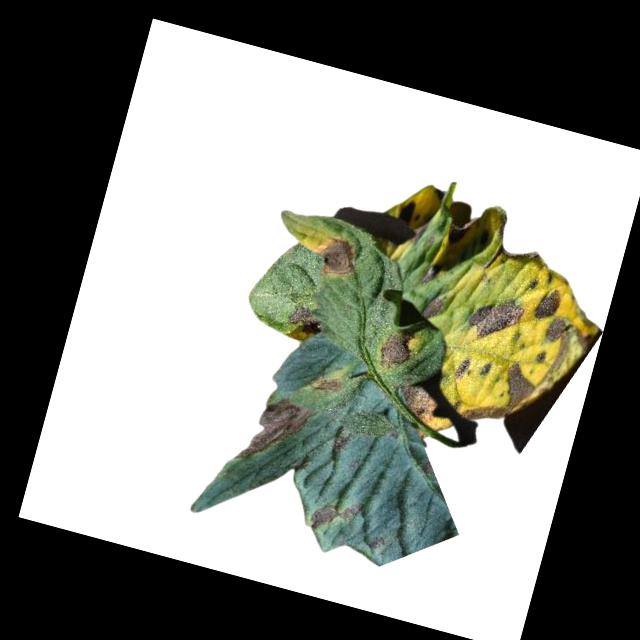Early_blight: (237, 391, 320, 476), (461, 352, 541, 434), (459, 288, 527, 351), (308, 493, 364, 543), (536, 316, 580, 376), (311, 233, 359, 283), (391, 380, 440, 427), (374, 323, 416, 376), (531, 286, 562, 326), (287, 305, 324, 338), (419, 293, 446, 324), (311, 372, 342, 397), (450, 352, 473, 383), (332, 435, 350, 456), (367, 535, 386, 551), (534, 347, 549, 365)
